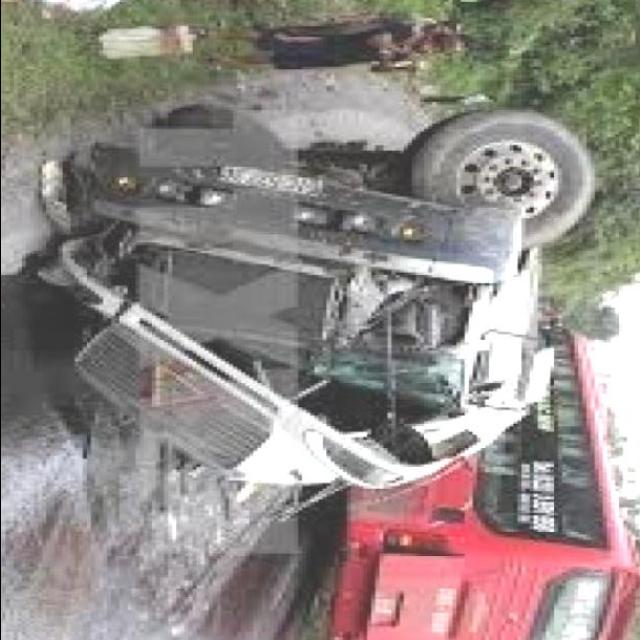accident: (19, 86, 587, 522)
